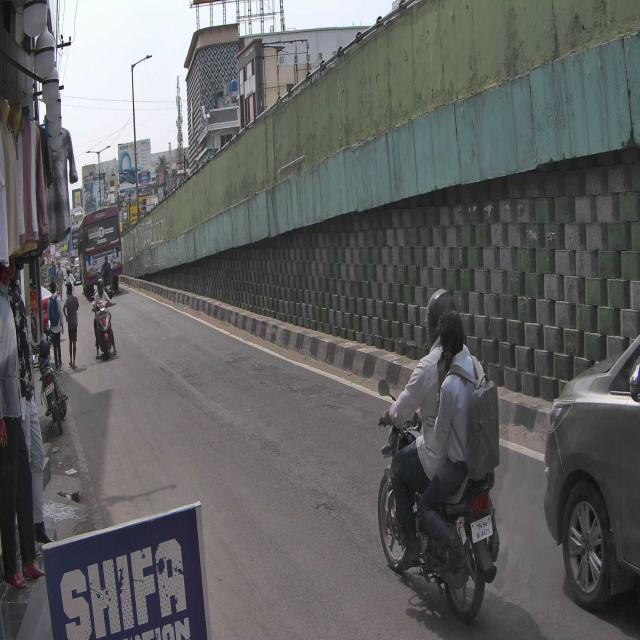double_rider: (376, 288, 499, 625)
